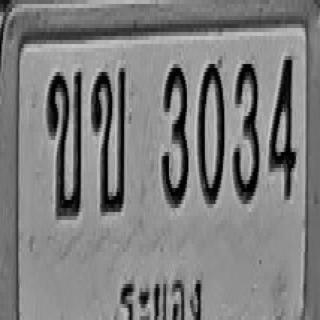A02: (46, 68, 82, 216), (91, 64, 126, 212)
N00: (197, 60, 224, 204)
N03: (232, 58, 260, 202), (162, 62, 188, 206)
N04: (268, 52, 295, 200)
P53: (120, 268, 206, 320)
